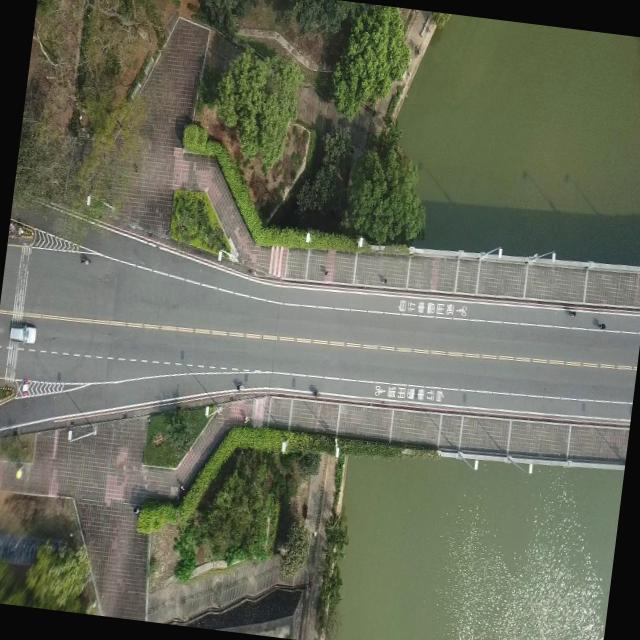bike: (76, 254, 92, 270)
car: (8, 318, 38, 344)
